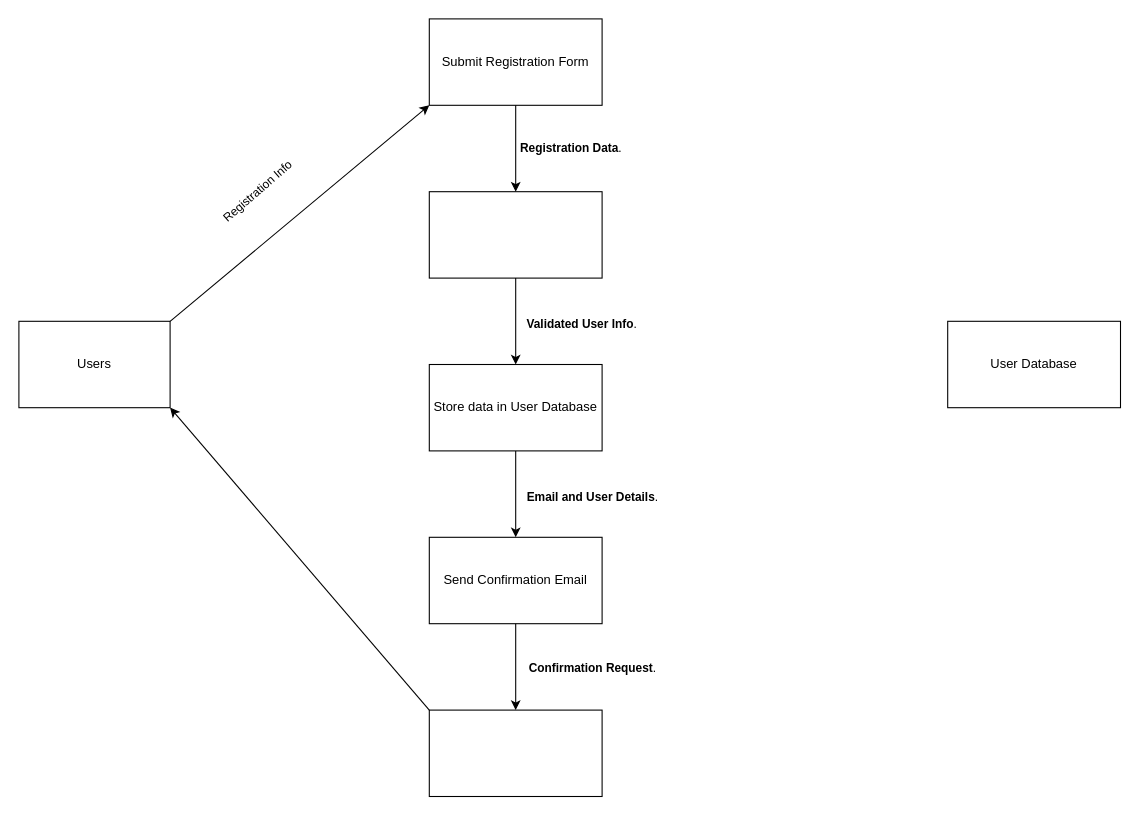
Some shapes in this 1139 by 815 pixel diagram are drawn without their labels. Here are the shapes that lost their labels. From the top down, the box of each, then its label:
(428, 191, 602, 278): Validate User Data
(428, 709, 602, 796): Email Service
